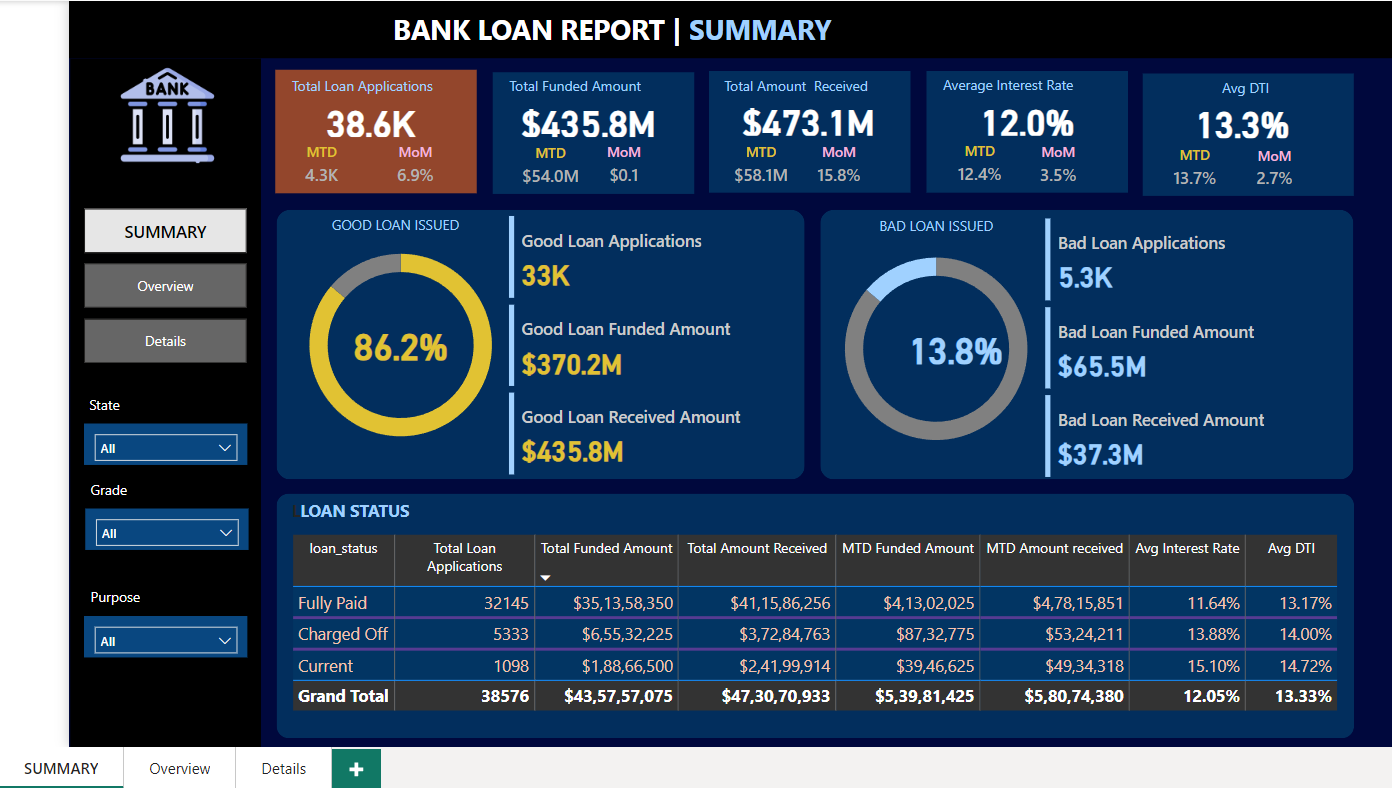

The page's visual inventory and layout, read from the dashboard file:
{"tool":"powerbi","page":{"name":"SUMMARY","canvas":[1280,720],"ordinal":0},"visuals":[{"type":"shape","box":[0,0,1279.6,55.5],"z":0},{"type":"shape","box":[199.6,65.9,194.6,119.6],"z":1000},{"type":"shape","box":[1.2,55.4,184.3,665.1],"z":2000},{"type":"textbox","box":[307.6,3.3,453.3,52.2],"z":3000},{"type":"card","fields":{"Values":["bank_loan_data.Total Loan Applications"]},"box":[194.3,94.8,194.6,41.3],"z":4000},{"type":"textbox","box":[209.6,67.6,179.3,34.8],"z":5000},{"type":"card","title":"MTD","fields":{"Values":["bank_loan_data.MTD Loan Applications"]},"box":[218.3,136.1,51.1,50],"z":6000},{"type":"card","title":"MoM","fields":{"Values":["bank_loan_data.MoM Loan Application"]},"box":[308.5,136.1,51.1,50],"z":7000},{"type":"shape","box":[408.6,68.5,194.6,117.4],"z":8000},{"type":"card","fields":{"Values":["bank_loan_data.Total Funded Amount"]},"box":[404.3,95.2,194.6,41.3],"z":9000},{"type":"textbox","box":[419.6,68,179.3,34.8],"z":10000},{"type":"card","title":"MTD","fields":{"Values":["bank_loan_data.MTD Funded Amount"]},"box":[428.3,137,72.8,50],"z":11000},{"type":"card","title":"MoM","fields":{"Values":["bank_loan_data.MoM Total Funded Amount"]},"box":[501.7,136.7,67.4,50],"z":12000},{"type":"shape","box":[617.7,68,194.6,117.4],"z":13000},{"type":"card","fields":{"Values":["bank_loan_data.Total Amount Received"]},"box":[616.3,94.6,194.6,41.3],"z":14000},{"type":"textbox","box":[627,67.6,179.3,34.8],"z":15000},{"type":"card","title":"MTD","fields":{"Values":["bank_loan_data.MTD Amount received"]},"box":[635.2,136.3,64.1,50],"z":16000},{"type":"card","title":"MoM","fields":{"Values":["bank_loan_data.MoM Total Amount Received"]},"box":[709.1,136.3,67.4,50],"z":17000},{"type":"shape","box":[826.7,67.2,194.6,117.4],"z":18000},{"type":"card","fields":{"Values":["bank_loan_data.Avg Interest Rate"]},"box":[827.4,93.7,194.6,41.3],"z":19000},{"type":"textbox","box":[838,66.8,179.3,34.8],"z":20000},{"type":"card","title":"MTD","fields":{"Values":["bank_loan_data.MTD Avg Int Rate"]},"box":[846.3,135.5,64.1,50],"z":21000},{"type":"card","title":"MoM","fields":{"Values":["bank_loan_data.MoM Avg Int Rate"]},"box":[919.5,136.1,70.7,49.1],"z":22000},{"type":"shape","box":[1036.1,69.9,203.6,118.1],"z":23000},{"type":"card","fields":{"Values":["bank_loan_data.Avg DTI"]},"box":[1035.2,97,194.6,41.3],"z":24000},{"type":"textbox","box":[1045.8,70,179.3,34.8],"z":25000},{"type":"card","title":"MTD","fields":{"Values":["bank_loan_data.MTD Avg DTI"]},"box":[1054.1,138.7,64.1,50],"z":26000},{"type":"card","title":"MoM","fields":{"Values":["bank_loan_data.MoM Avg DTI"]},"box":[1127.3,139.3,70.7,49.1],"z":27000},{"type":"shape","box":[200,201.2,509.6,260.2],"z":28000},{"type":"shape","box":[725.3,201.2,514.5,260.2],"z":29000},{"type":"donutChart","fields":{"Category":["bank_loan_data.Good vs Bad Loans"],"Y":["bank_loan_data.Total Loan Applications"]},"box":[200,216.9,240,230.1],"z":30000},{"type":"card","fields":{"Values":["bank_loan_data.Good Loan %"]},"box":[260.2,310.8,119.3,41],"z":31000},{"type":"textbox","box":[248.2,201.2,179.5,34.9],"z":32000},{"type":"cardVisual","fields":{"Data":["bank_loan_data.Good Loan Applications","bank_loan_data.Good Loan Funded Amount","bank_loan_data.Good Loan Received Amount"]},"box":[419.3,202.4,279.5,260.2],"z":33000},{"type":"donutChart","fields":{"Category":["bank_loan_data.Good vs Bad Loans"],"Y":["bank_loan_data.Total Loan Applications"]},"box":[716.9,220.5,241,230.1],"z":34000},{"type":"textbox","box":[777.1,202.4,179.5,34.9],"z":35000},{"type":"card","fields":{"Values":["bank_loan_data.Bad Loan %"]},"box":[796.4,314.5,119.3,41],"z":36000},{"type":"cardVisual","fields":{"Data":["bank_loan_data.Bad Loan Applications","bank_loan_data.Bad Loan Funded Amount","bank_loan_data.Bad Loan Received Amount"]},"box":[937.3,204.8,279.5,260.2],"z":37000},{"type":"shape","box":[200,474.7,1039.8,236.1],"z":38000},{"type":"tableEx","fields":{"Values":["bank_loan_data.loan_status","bank_loan_data.Total Loan Applications","bank_loan_data.Total Funded Amount","bank_loan_data.Total Amount Received","bank_loan_data.MTD Funded Amount","bank_loan_data.MTD Amount received","bank_loan_data.Avg Interest Rate","bank_loan_data.Avg DTI"]},"box":[209.6,509.6,1019.3,191.6],"z":39000},{"type":"textbox","box":[209.6,474.7,179.5,34.9],"z":40000},{"type":"slicer","fields":{"Values":["bank_loan_data.address_state"]},"box":[14.5,407.2,157.8,39.8],"z":41000},{"type":"textbox","box":[14.5,374.7,53,32.5],"z":42000},{"type":"slicer","fields":{"Values":["bank_loan_data.grade"]},"box":[15.7,489.2,157.8,39.8],"z":43000},{"type":"textbox","box":[15.7,456.6,67.5,32.5],"z":44000},{"type":"slicer","fields":{"Values":["bank_loan_data.purpose"]},"box":[14.5,592.8,157.8,39.8],"z":45000},{"type":"textbox","box":[15.7,560.2,67.5,32.5],"z":46000},{"type":"image","box":[42.2,55.4,106,108.4],"z":46001},{"type":"pageNavigator","box":[14.5,200,157.8,151.8],"z":46002}]}

Visuals, with their boxes on the page's 1280x720 design canvas (x1, y1, x2, y2). These are canvas units, not pixel positions in the 1392x788 screenshot, which may show the page scaled, cropped or inside an application window:
shape: l=0, t=0, r=1280, b=56
shape: l=200, t=66, r=394, b=186
shape: l=1, t=55, r=186, b=720
textbox: l=308, t=3, r=761, b=56
card - bank_loan_data.Total Loan Applications: l=194, t=95, r=389, b=136
textbox: l=210, t=68, r=389, b=102
"MTD" card: l=218, t=136, r=269, b=186
"MoM" card: l=308, t=136, r=360, b=186
shape: l=409, t=68, r=603, b=186
card - bank_loan_data.Total Funded Amount: l=404, t=95, r=599, b=136
textbox: l=420, t=68, r=599, b=103
"MTD" card: l=428, t=137, r=501, b=187
"MoM" card: l=502, t=137, r=569, b=187
shape: l=618, t=68, r=812, b=185
card - bank_loan_data.Total Amount Received: l=616, t=95, r=811, b=136
textbox: l=627, t=68, r=806, b=102
"MTD" card: l=635, t=136, r=699, b=186
"MoM" card: l=709, t=136, r=776, b=186
shape: l=827, t=67, r=1021, b=185
card - bank_loan_data.Avg Interest Rate: l=827, t=94, r=1022, b=135
textbox: l=838, t=67, r=1017, b=102
"MTD" card: l=846, t=136, r=910, b=186
"MoM" card: l=920, t=136, r=990, b=185
shape: l=1036, t=70, r=1240, b=188
card - bank_loan_data.Avg DTI: l=1035, t=97, r=1230, b=138
textbox: l=1046, t=70, r=1225, b=105
"MTD" card: l=1054, t=139, r=1118, b=189
"MoM" card: l=1127, t=139, r=1198, b=188
shape: l=200, t=201, r=710, b=461
shape: l=725, t=201, r=1240, b=461
donutChart - bank_loan_data.Good vs Bad Loans x bank_loan_data.Total Loan Applications: l=200, t=217, r=440, b=447
card - bank_loan_data.Good Loan %: l=260, t=311, r=380, b=352
textbox: l=248, t=201, r=428, b=236
cardVisual - bank_loan_data.Good Loan Applications x bank_loan_data.Good Loan Funded Amount: l=419, t=202, r=699, b=463
donutChart - bank_loan_data.Good vs Bad Loans x bank_loan_data.Total Loan Applications: l=717, t=220, r=958, b=451
textbox: l=777, t=202, r=957, b=237
card - bank_loan_data.Bad Loan %: l=796, t=314, r=916, b=356
cardVisual - bank_loan_data.Bad Loan Applications x bank_loan_data.Bad Loan Funded Amount: l=937, t=205, r=1217, b=465
shape: l=200, t=475, r=1240, b=711
tableEx - bank_loan_data.loan_status x bank_loan_data.Total Loan Applications: l=210, t=510, r=1229, b=701
textbox: l=210, t=475, r=389, b=510
slicer - bank_loan_data.address_state: l=14, t=407, r=172, b=447
textbox: l=14, t=375, r=68, b=407
slicer - bank_loan_data.grade: l=16, t=489, r=174, b=529
textbox: l=16, t=457, r=83, b=489
slicer - bank_loan_data.purpose: l=14, t=593, r=172, b=633
textbox: l=16, t=560, r=83, b=593
image: l=42, t=55, r=148, b=164
pageNavigator: l=14, t=200, r=172, b=352
